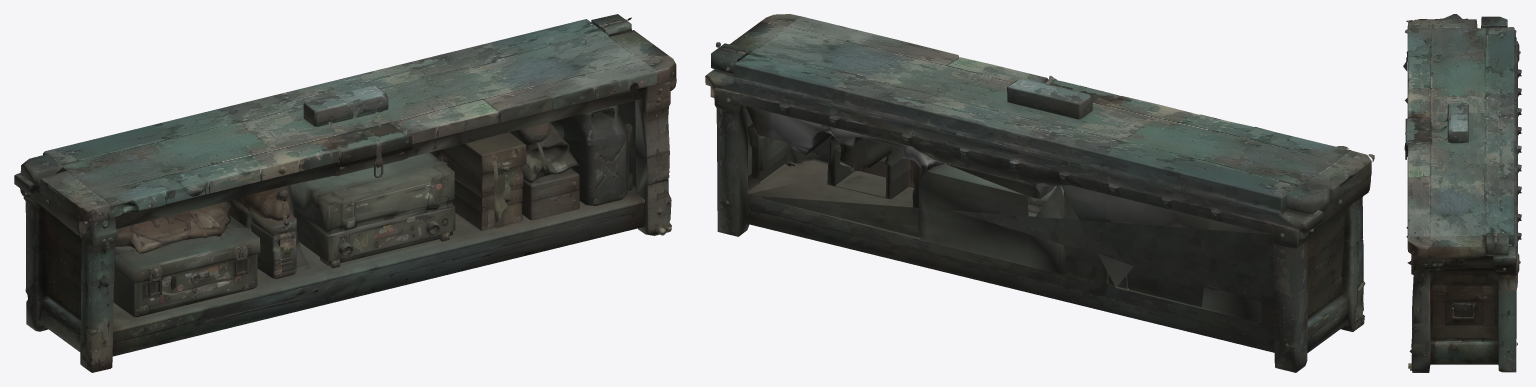
File: industrial_ammo_crate_3d_model.fbx
The picture shows the model from 3 angles, left to right: view 1: azimuth 30°, elevation 25°; view 2: azimuth 150°, elevation 25°; view 3: azimuth 270°, elevation 25°; orthographic projection. The views are drawn at different scales.
Parts seen in each view (by area): view 1: tripo_247e5411_be0e_45b2_b79d_2456762ee838; view 2: tripo_247e5411_be0e_45b2_b79d_2456762ee838; view 3: tripo_247e5411_be0e_45b2_b79d_2456762ee838.
Part boxes in pixels (x1=…): tripo_247e5411_be0e_45b2_b79d_2456762ee838: x1=14, y1=14, x2=676, y2=372; tripo_247e5411_be0e_45b2_b79d_2456762ee838: x1=705, y1=14, x2=1374, y2=372; tripo_247e5411_be0e_45b2_b79d_2456762ee838: x1=1403, y1=14, x2=1521, y2=372.
Bounding box in the file's own units: 0.9995 × 0.2925 × 0.2173.
Materials: 1 (1 with a texture image).
